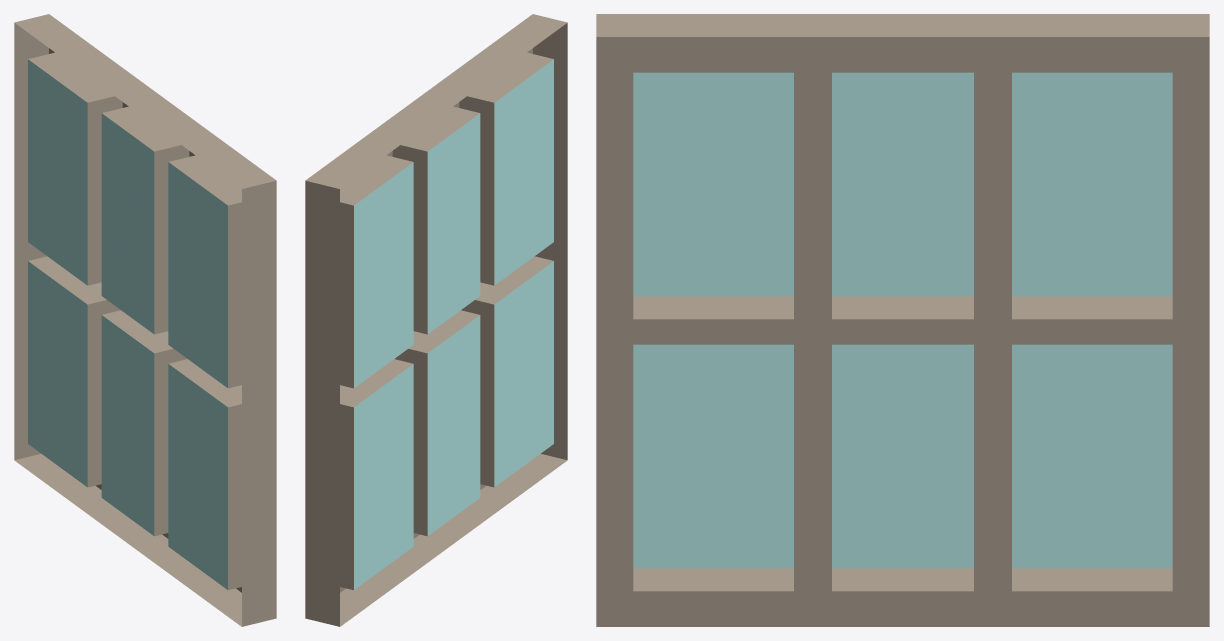
File: Window01.fbx
3 renders of one model, left to right at view 1: azimuth 30°, elevation 25°; view 2: azimuth 150°, elevation 25°; view 3: azimuth 270°, elevation 25°, orthographic. The views are drawn at different scales.
Visible parts, largest first — view 1: Window; view 2: Window; view 3: Window.
Boxes of the visible parts, box(x1,y1,x2,y2) form: Window: box(14, 14, 276, 626); Window: box(305, 14, 567, 626); Window: box(596, 14, 1209, 626).
Bounding box in the file's own units: 0.3109 × 3.72 × 3.51.
